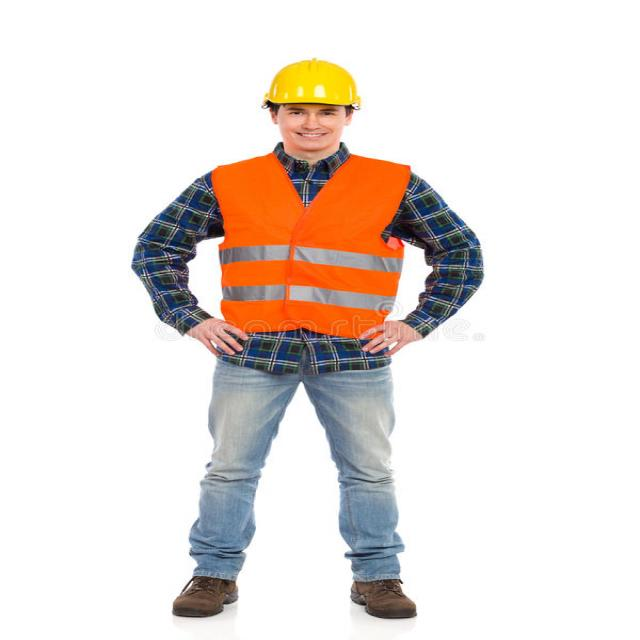Reflective-Jacket: (204, 153, 419, 345)
Safety-Helmet: (261, 54, 363, 110)
